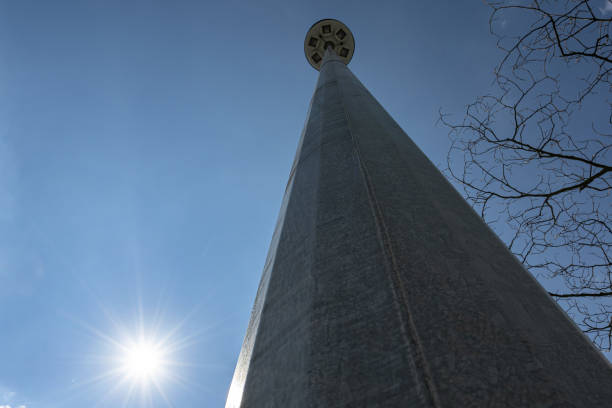light_pole: (228, 59, 612, 408)
